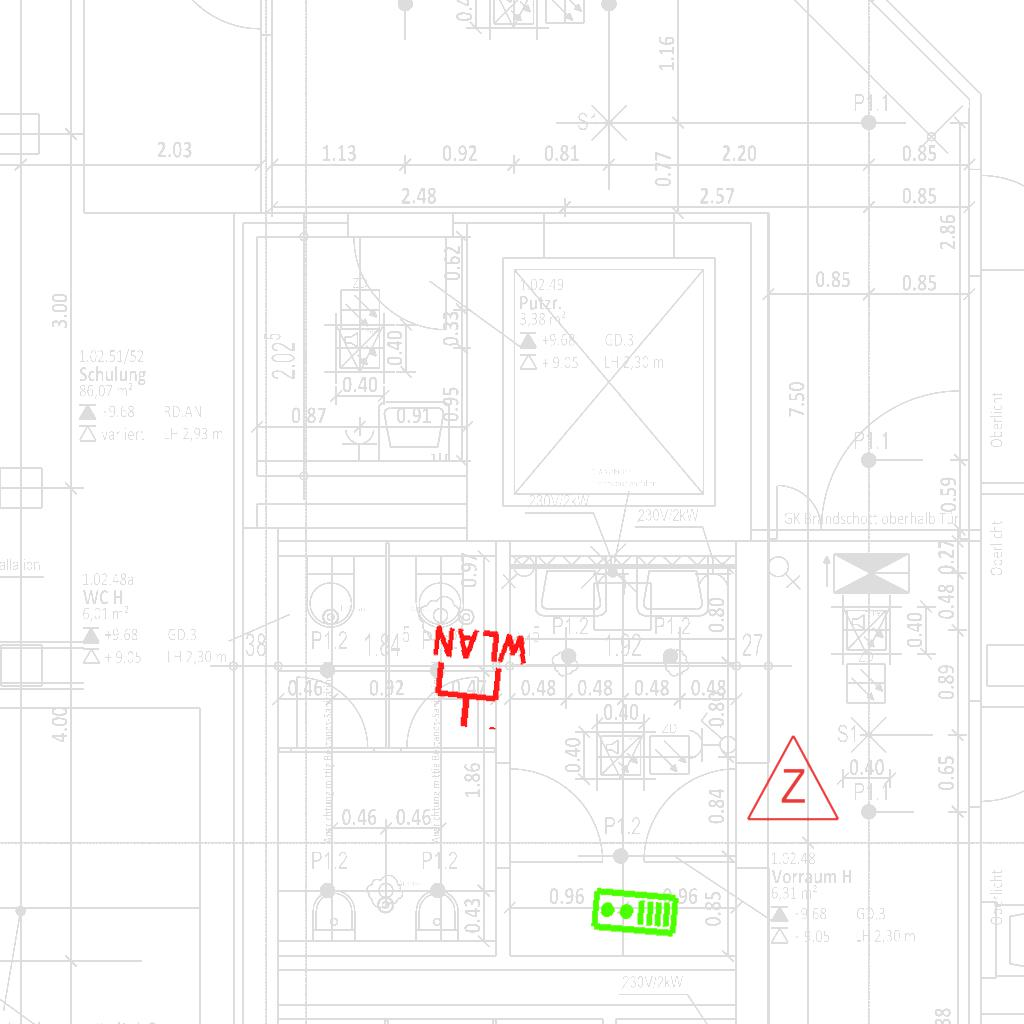Gegensprechanlage_mit_Video: (588, 885, 681, 941)
WLAN: (420, 622, 535, 738)
Zimmersignalleuchte: (743, 728, 841, 828)
